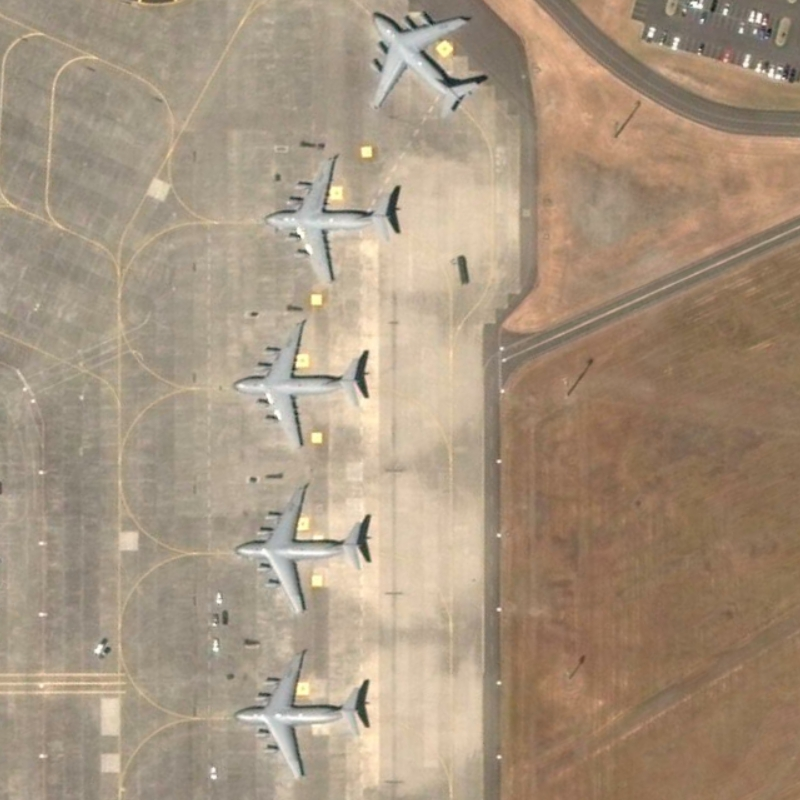A3: (229, 309, 376, 453), (227, 476, 374, 619), (255, 153, 404, 289), (232, 644, 364, 783), (354, 2, 487, 122)
